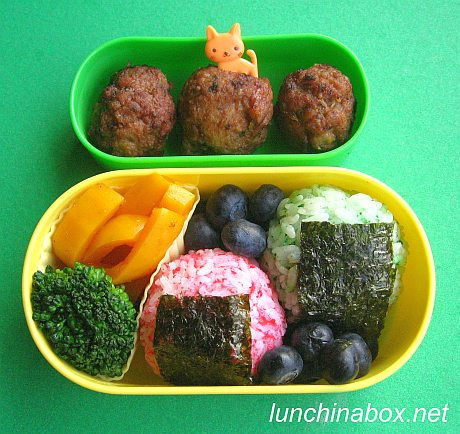broccoli: (29, 260, 139, 379)
